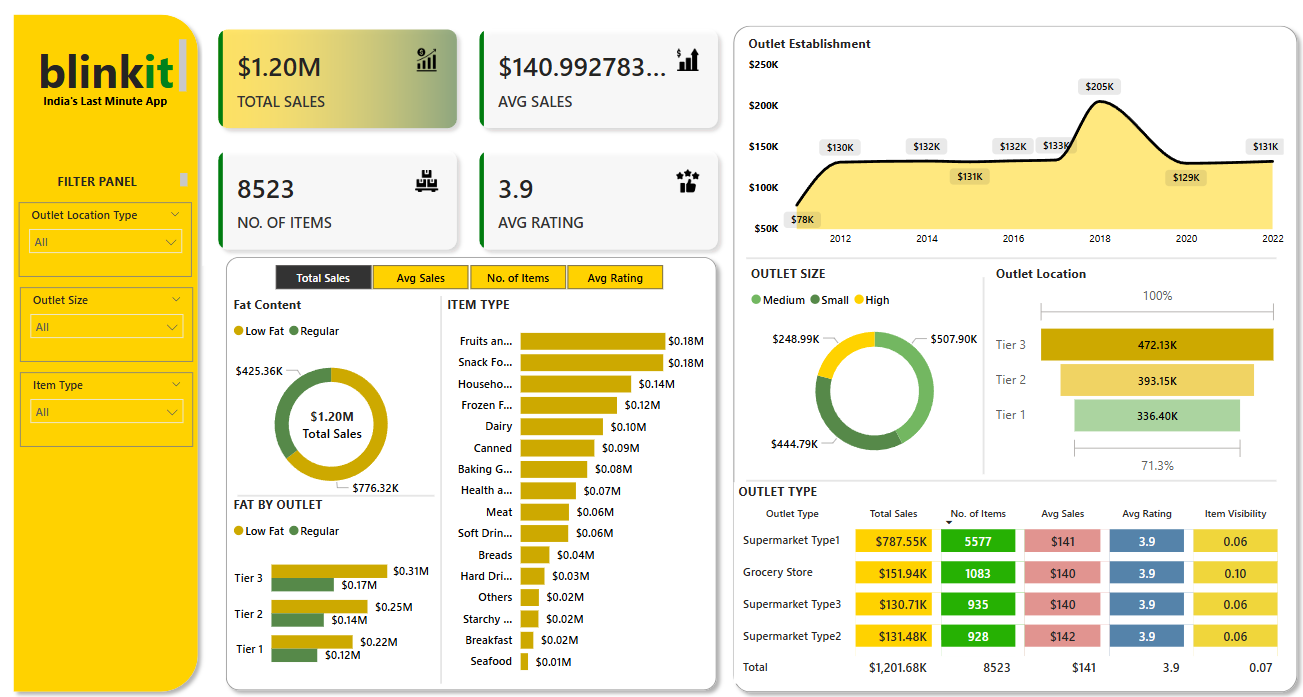

The page's visual inventory and layout, read from the dashboard file:
{"tool":"powerbi","page":{"name":"Page 1","canvas":[1400,800],"ordinal":0},"visuals":[{"type":"shape","box":[5.7,27.1,215.7,744.3],"z":0},{"type":"textbox","box":[30,57.8,175.6,70],"z":1000},{"type":"textbox","box":[20,113.3,185.6,27.8],"z":2000},{"type":"cardVisual","fields":{"Data":["BlinkIT Grocery Data.Total Sales","BlinkIT Grocery Data.Avg Sales","BlinkIT Grocery Data.No. of Items","BlinkIT Grocery Data.Avg Rating"]},"box":[217.1,34.3,570,270],"z":3000},{"type":"shape","box":[232.9,287.1,544.3,482.9],"z":4000},{"type":"donutChart","title":"Fat Content","fields":{"Y":["BlinkIT Grocery Data.Total Sales"],"Category":["BlinkIT Grocery Data.Item Fat Content"]},"box":[245.7,337.1,220,230],"z":5000},{"type":"slicer","fields":{"Values":["Metrics.Metrics"]},"box":[270,297.1,465.7,40],"z":6000},{"type":"cardVisual","fields":{"Data":["BlinkIT Grocery Data.Total Sales"]},"box":[300,432.9,112.9,84.3],"z":7000},{"type":"clusteredBarChart","title":"FAT BY OUTLET","fields":{"Y":["BlinkIT Grocery Data.Total Sales"],"Category":["BlinkIT Grocery Data.Outlet Location Type"],"Series":["BlinkIT Grocery Data.Item Fat Content"]},"box":[245.7,552.9,220,200],"z":8000},{"type":"shape","box":[254.3,545.7,211.4,12.9],"z":9000},{"type":"shape","box":[465.7,337.1,15.7,415.7],"z":10000},{"type":"barChart","title":"ITEM TYPE","fields":{"Y":["BlinkIT Grocery Data.Total Sales"],"Category":["BlinkIT Grocery Data.Item Type"]},"box":[474.3,337.1,285.7,415.7],"z":11000},{"type":"shape","box":[777.1,38.6,622.9,732.9],"z":12000},{"type":"lineChart","title":"Outlet Establishment","fields":{"Y":["BlinkIT Grocery Data.Total Sales"],"Category":["BlinkIT Grocery Data.Outlet Establishment Year"]},"box":[797.1,57.1,584.3,235.7],"z":13000},{"type":"shape","box":[800,530,568.6,12.9],"z":14000},{"type":"shape","box":[800,291.4,568.6,12.9],"z":15000},{"type":"donutChart","title":"OUTLET SIZE","fields":{"Y":["BlinkIT Grocery Data.Total Sales"],"Category":["BlinkIT Grocery Data.Outlet Size"]},"box":[800,304.3,275.7,225.7],"z":16000},{"type":"shape","box":[1047.1,317.1,15.7,211.4],"z":17000},{"type":"funnel","title":" Outlet Location","fields":{"Y":["Sum(BlinkIT Grocery Data.Sales)"],"Category":["BlinkIT Grocery Data.Outlet Location Type"]},"box":[1062.9,304.3,312.9,230],"z":18000},{"type":"pivotTable","title":"OUTLET TYPE","fields":{"Rows":["BlinkIT Grocery Data.Outlet Type"],"Values":["BlinkIT Grocery Data.Total Sales","BlinkIT Grocery Data.No. of Items","BlinkIT Grocery Data.Avg Sales","BlinkIT Grocery Data.Avg Rating","Avg(BlinkIT Grocery Data.Item Visibility)"]},"box":[787.1,537.1,597.1,215.7],"z":19000},{"type":"slicer","fields":{"Values":["BlinkIT Grocery Data.Outlet Location Type"]},"box":[20,237.1,185.7,80],"z":20000},{"type":"slicer","fields":{"Values":["BlinkIT Grocery Data.Outlet Size"]},"box":[21.4,328.6,185.7,80],"z":21000},{"type":"slicer","fields":{"Values":["BlinkIT Grocery Data.Item Type"]},"box":[21.4,420,185.7,80],"z":22000},{"type":"textbox","box":[55.7,201.4,150,24.3],"z":22001}]}

Visuals, with their boxes on the page's 1400x800 design canvas (x1, y1, x2, y2). These are canvas units, not pixel positions in the 1303x697 screenshot, which may show the page scaled, cropped or inside an application window:
shape: [6, 27, 221, 771]
textbox: [30, 58, 206, 128]
textbox: [20, 113, 206, 141]
cardVisual - BlinkIT Grocery Data.Total Sales x BlinkIT Grocery Data.Avg Sales: [217, 34, 787, 304]
shape: [233, 287, 777, 770]
"Fat Content" donutChart: [246, 337, 466, 567]
slicer - Metrics.Metrics: [270, 297, 736, 337]
cardVisual - BlinkIT Grocery Data.Total Sales: [300, 433, 413, 517]
"FAT BY OUTLET" clusteredBarChart: [246, 553, 466, 753]
shape: [254, 546, 466, 559]
shape: [466, 337, 481, 753]
"ITEM TYPE" barChart: [474, 337, 760, 753]
shape: [777, 39, 1400, 772]
"Outlet Establishment" lineChart: [797, 57, 1381, 293]
shape: [800, 530, 1369, 543]
shape: [800, 291, 1369, 304]
"OUTLET SIZE" donutChart: [800, 304, 1076, 530]
shape: [1047, 317, 1063, 528]
" Outlet Location" funnel: [1063, 304, 1376, 534]
"OUTLET TYPE" pivotTable: [787, 537, 1384, 753]
slicer - BlinkIT Grocery Data.Outlet Location Type: [20, 237, 206, 317]
slicer - BlinkIT Grocery Data.Outlet Size: [21, 329, 207, 409]
slicer - BlinkIT Grocery Data.Item Type: [21, 420, 207, 500]
textbox: [56, 201, 206, 226]
